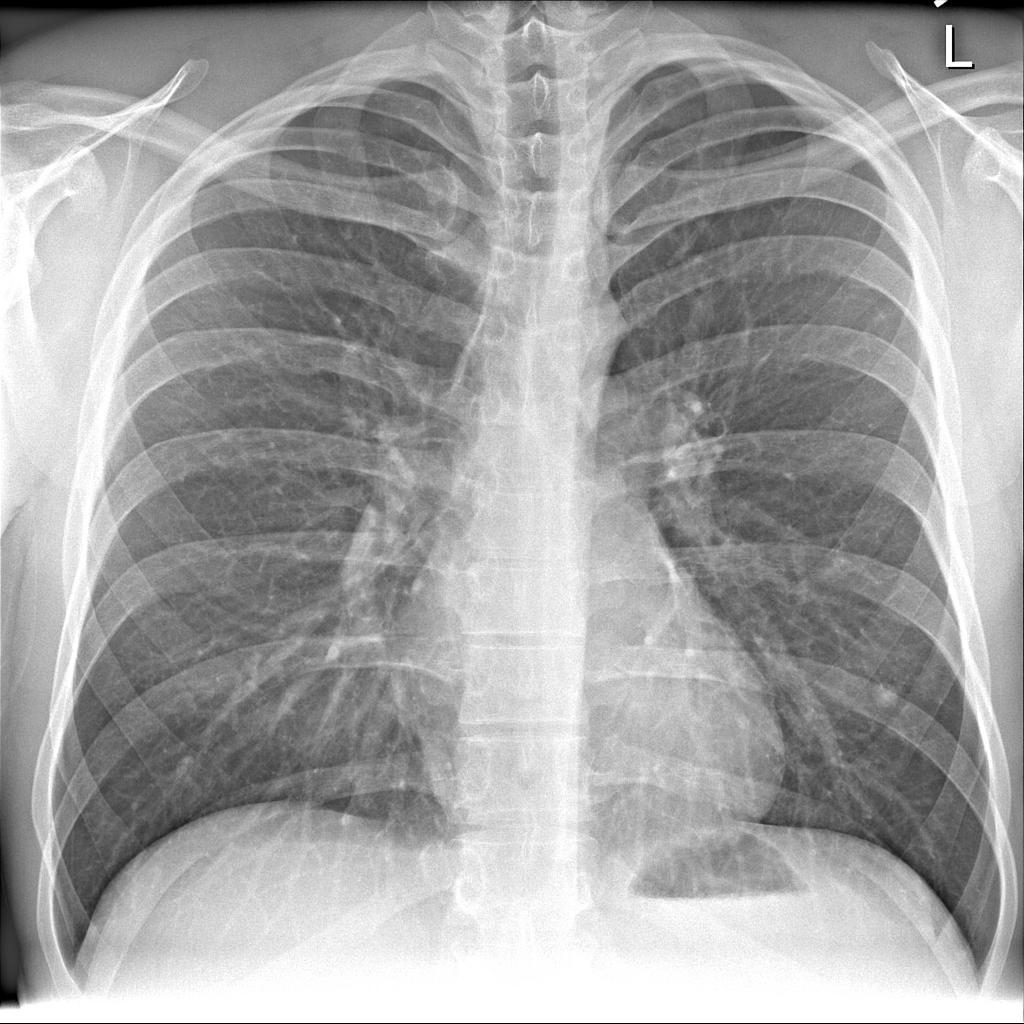Nodule: (871, 678, 908, 715)
